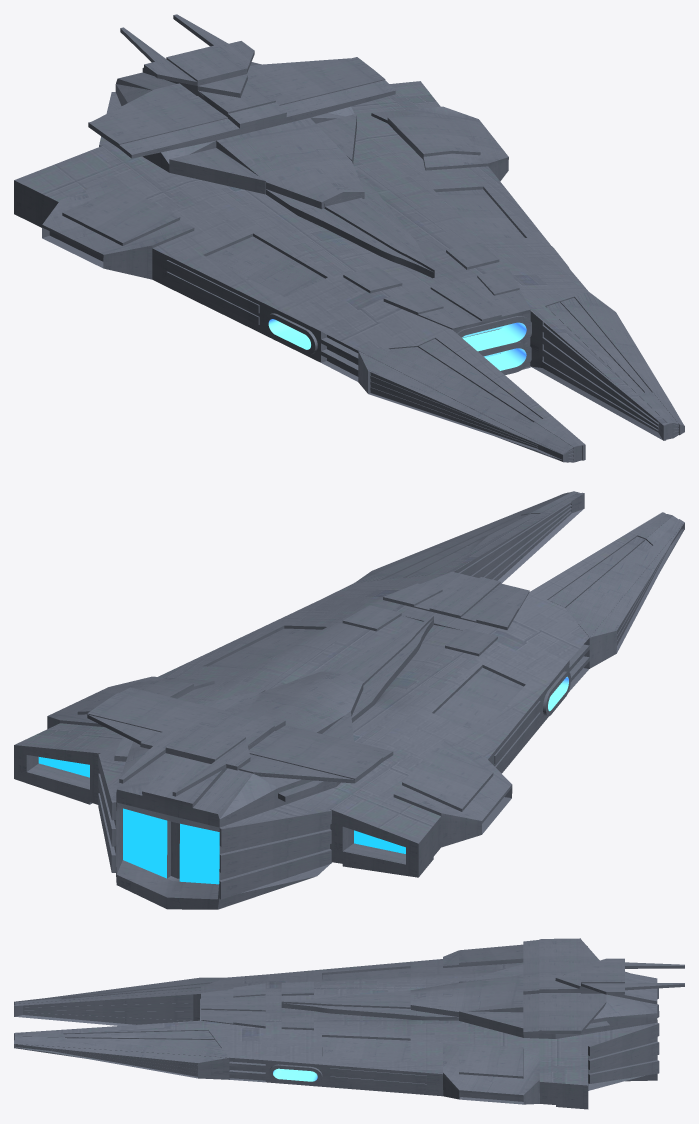
File: sith_dreadnought.glb
3 views of the same model, one above another, from view 1: azimuth 30°, elevation 25°; view 2: azimuth 150°, elevation 25°; view 3: azimuth 270°, elevation 25° (orthographic). The views are drawn at different scales.
Visible parts, largest first — view 1: Object_6, Hangar _4; view 2: Object_6, Object_4; view 3: Object_6, Hangar _4.
Boxes of the visible parts, x1,y1,x2,y2 form: Object_6: [14, 14, 684, 462]; Hangar _4: [268, 319, 526, 370]; Object_6: [14, 491, 684, 909]; Object_4: [38, 757, 405, 884]; Object_6: [14, 938, 684, 1109]; Hangar _4: [273, 1068, 317, 1081].
Bounding box in the file's own units: 0.5278 × 0.1676 × 0.9986.
3 materials, 1 textured.
